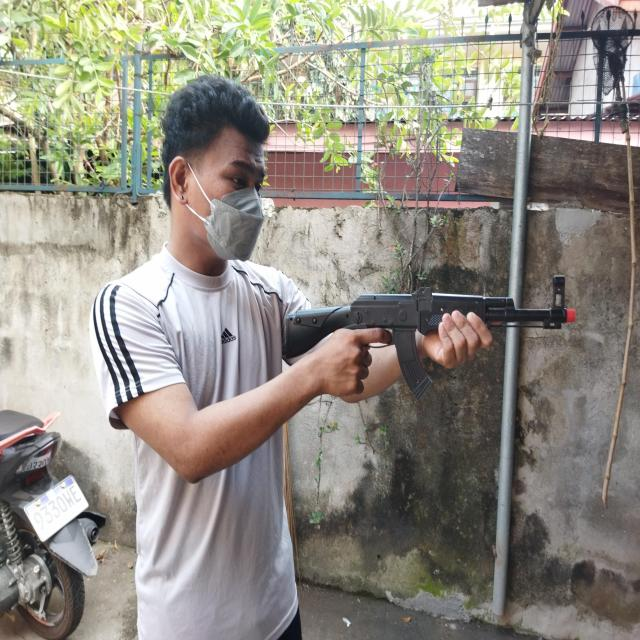rifle: (280, 260, 576, 404)
